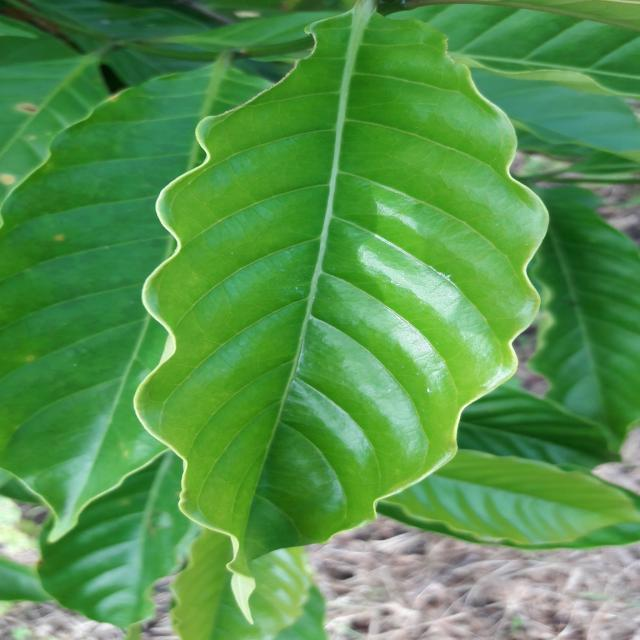Sanas: (132, 0, 551, 568)
